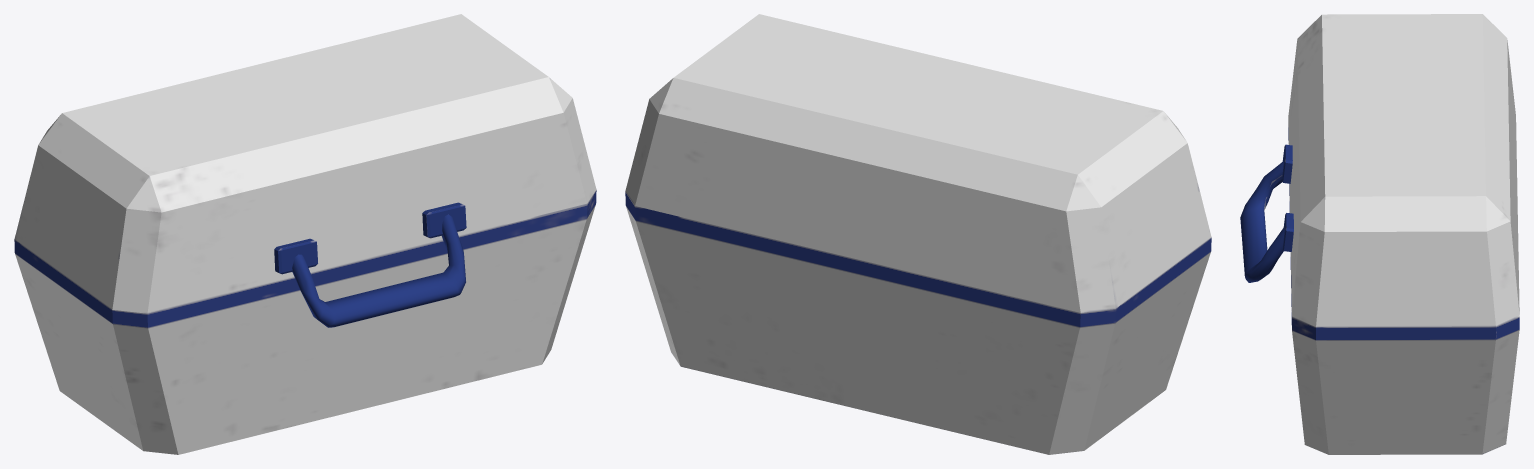
The model's file is plasticCase00.fbx.
3 renders of one model, left to right at view 1: azimuth 30°, elevation 25°; view 2: azimuth 150°, elevation 25°; view 3: azimuth 270°, elevation 25°, orthographic. The views are drawn at different scales.
Parts seen in each view (by area): view 1: plasticCase; view 2: plasticCase; view 3: plasticCase.
Part boxes in pixels (bbox=[...]): plasticCase: bbox=[14, 14, 596, 454]; plasticCase: bbox=[625, 14, 1211, 454]; plasticCase: bbox=[1240, 14, 1519, 454].
Size of the model in its own units: 1.29 by 0.7163 by 0.6898.
1 material, 1 textured.
